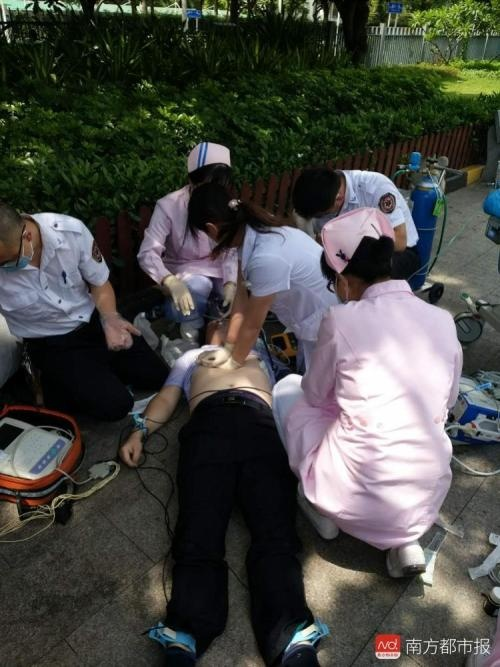falling: (115, 307, 341, 664)
